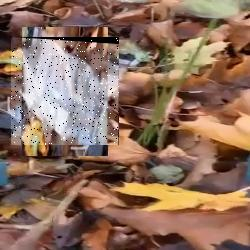plastic: (11, 37, 119, 145)
